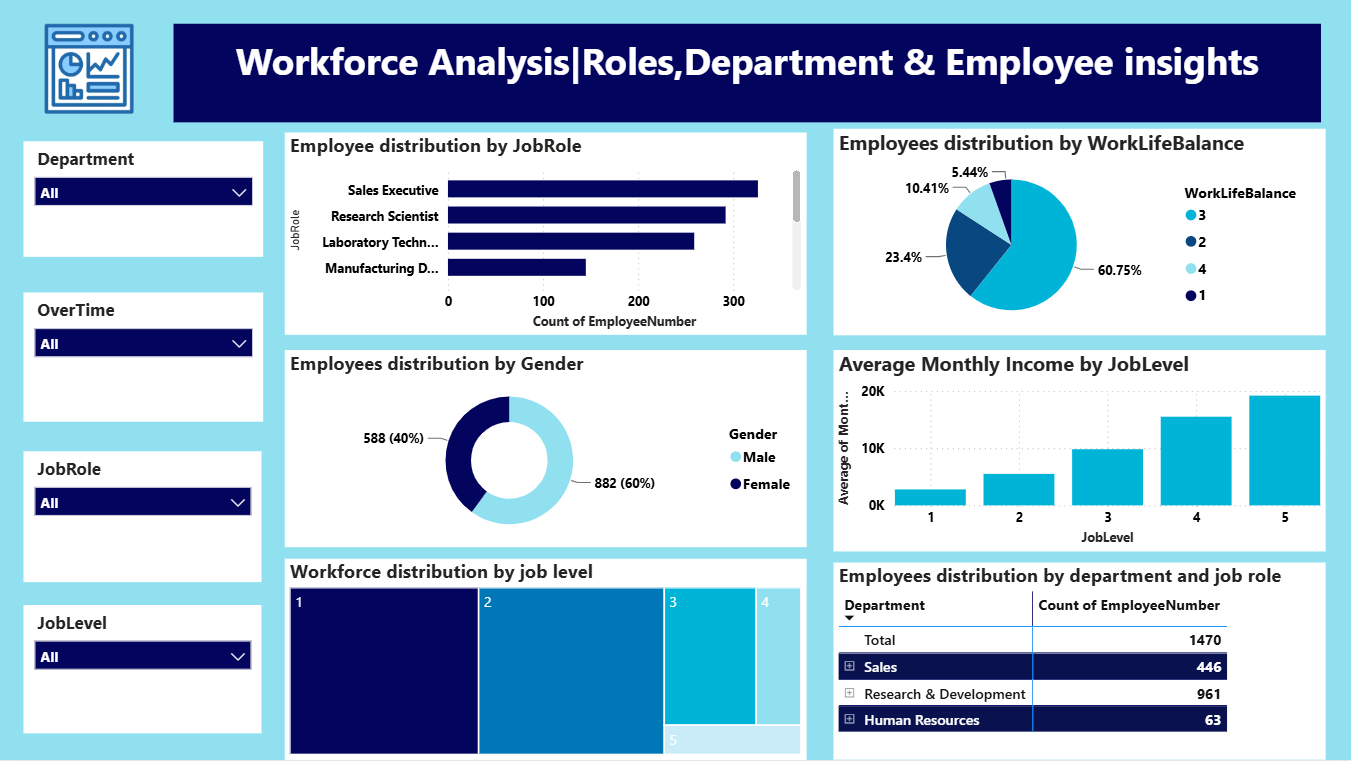

What the dashboard file says about the page in this screenshot:
{"tool":"powerbi","page":{"name":"Workforce analysis","canvas":[1280,720],"ordinal":1},"visuals":[{"type":"textbox","title":"Workforce Analysis|Roles,Department & Employee insights","box":[166.5,26.5,1079.8,92.9],"z":0},{"type":"clusteredColumnChart","title":"Average Monthly Income by JobLevel","fields":{"Category":["employees.JobLevel"],"Y":["Avg(employees.MonthlyIncome)"]},"box":[787.8,334.2,463.3,189.4],"z":1000},{"type":"pieChart","title":"Employees distribution  by WorkLifeBalance","fields":{"Category":["employees.WorkLifeBalance"],"Y":["CountNonNull(employees.EmployeeNumber)"]},"box":[787.8,125.5,463.3,194.2],"z":2000},{"type":"donutChart","title":"Employees distribution by  Gender","fields":{"Category":["employees.Gender"],"Y":["CountNonNull(employees.EmployeeNumber)"]},"box":[271.4,334.2,491,185.8],"z":3000},{"type":"clusteredBarChart","title":" Employee distribution by JobRole","fields":{"Category":["employees.JobRole"],"Y":["CountNonNull(employees.EmployeeNumber)"]},"box":[271.4,129.1,491,190.6],"z":4000},{"type":"image","box":[37.4,26.5,100.1,84.5],"z":5000},{"type":"treemap","title":"Workforce distribution by job level","fields":{"Group":["employees.JobLevel"],"Values":["CountNonNull(employees.EmployeeNumber)"]},"box":[271.4,530.8,491,189.4],"z":6000},{"type":"pivotTable","title":"Employees distribution by department and job role","fields":{"Rows":["employees.Department","employees.JobRole"],"Values":["CountNonNull(employees.EmployeeNumber)"]},"box":[787.8,534.5,463.3,185.8],"z":7000},{"type":"slicer","fields":{"Values":["employees.Department"]},"box":[25.3,137.5,225.6,108.6],"z":8000},{"type":"slicer","fields":{"Values":["employees.OverTime"]},"box":[25.3,279.9,225.6,121.9],"z":9000},{"type":"slicer","fields":{"Values":["employees.JobRole"]},"box":[25.3,429.5,224.4,123.1],"z":10000},{"type":"slicer","fields":{"Values":["employees.JobLevel"]},"box":[25.3,574.3,224.4,120.6],"z":11000}]}

Visuals, with their boxes in screenshot pixels (x1, y1, x2, y2), scaled from the page's 1280x720 canvas onto the 1351x761 screenshot:
"Workforce Analysis|Roles,Department & Employee insights" textbox: <bbox>176, 28, 1315, 126</bbox>
"Average Monthly Income by JobLevel" clusteredColumnChart: <bbox>831, 353, 1320, 553</bbox>
"Employees distribution  by WorkLifeBalance" pieChart: <bbox>831, 133, 1320, 338</bbox>
"Employees distribution by  Gender" donutChart: <bbox>286, 353, 805, 550</bbox>
" Employee distribution by JobRole" clusteredBarChart: <bbox>286, 136, 805, 338</bbox>
image: <bbox>39, 28, 145, 117</bbox>
"Workforce distribution by job level" treemap: <bbox>286, 561, 805, 760</bbox>
"Employees distribution by department and job role" pivotTable: <bbox>831, 565, 1320, 760</bbox>
slicer - employees.Department: <bbox>27, 145, 265, 260</bbox>
slicer - employees.OverTime: <bbox>27, 296, 265, 425</bbox>
slicer - employees.JobRole: <bbox>27, 454, 264, 584</bbox>
slicer - employees.JobLevel: <bbox>27, 607, 264, 734</bbox>
